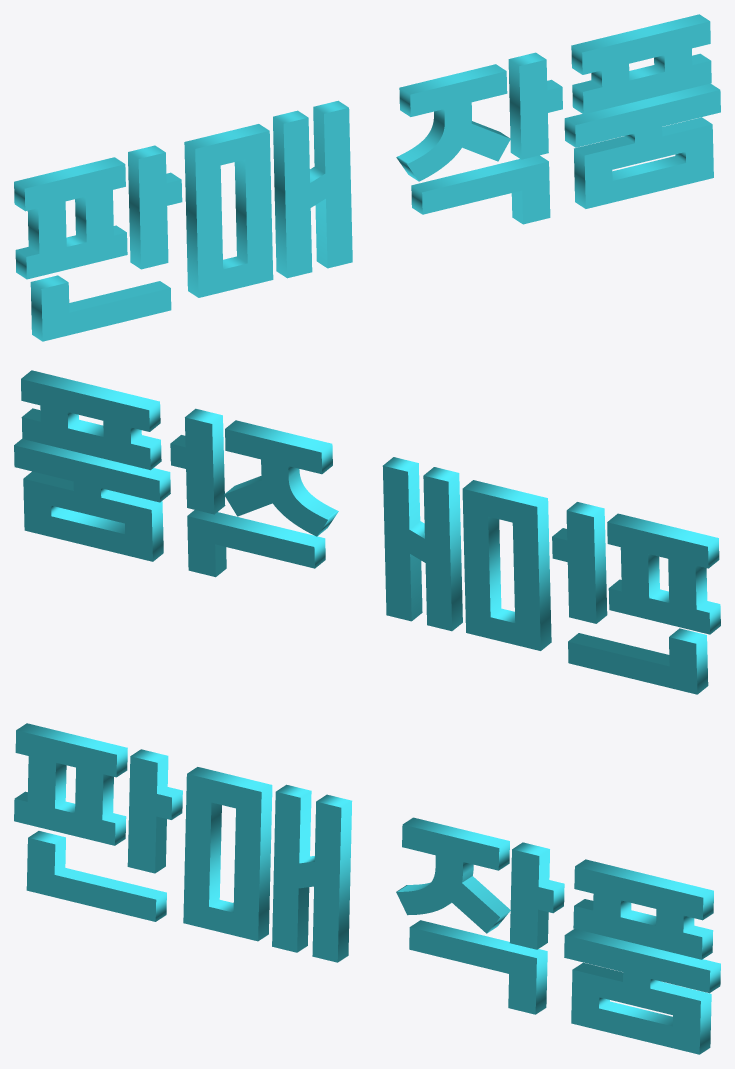
3 views of the same model, one above another, from view 1: azimuth 30°, elevation 25°; view 2: azimuth 150°, elevation 25°; view 3: azimuth 330°, elevation 25° (orthographic).
Parts seen in each view (by area): view 1: 텍스트.001; view 2: 텍스트.001; view 3: 텍스트.001.
Boxes of the visible parts, x1=… form: 텍스트.001: x1=14, y1=14, x2=720, y2=341; 텍스트.001: x1=14, y1=370, x2=720, y2=694; 텍스트.001: x1=14, y1=723, x2=720, y2=1054.
Size of the model in its own units: 3.35 by 0.7214 by 0.1212.
